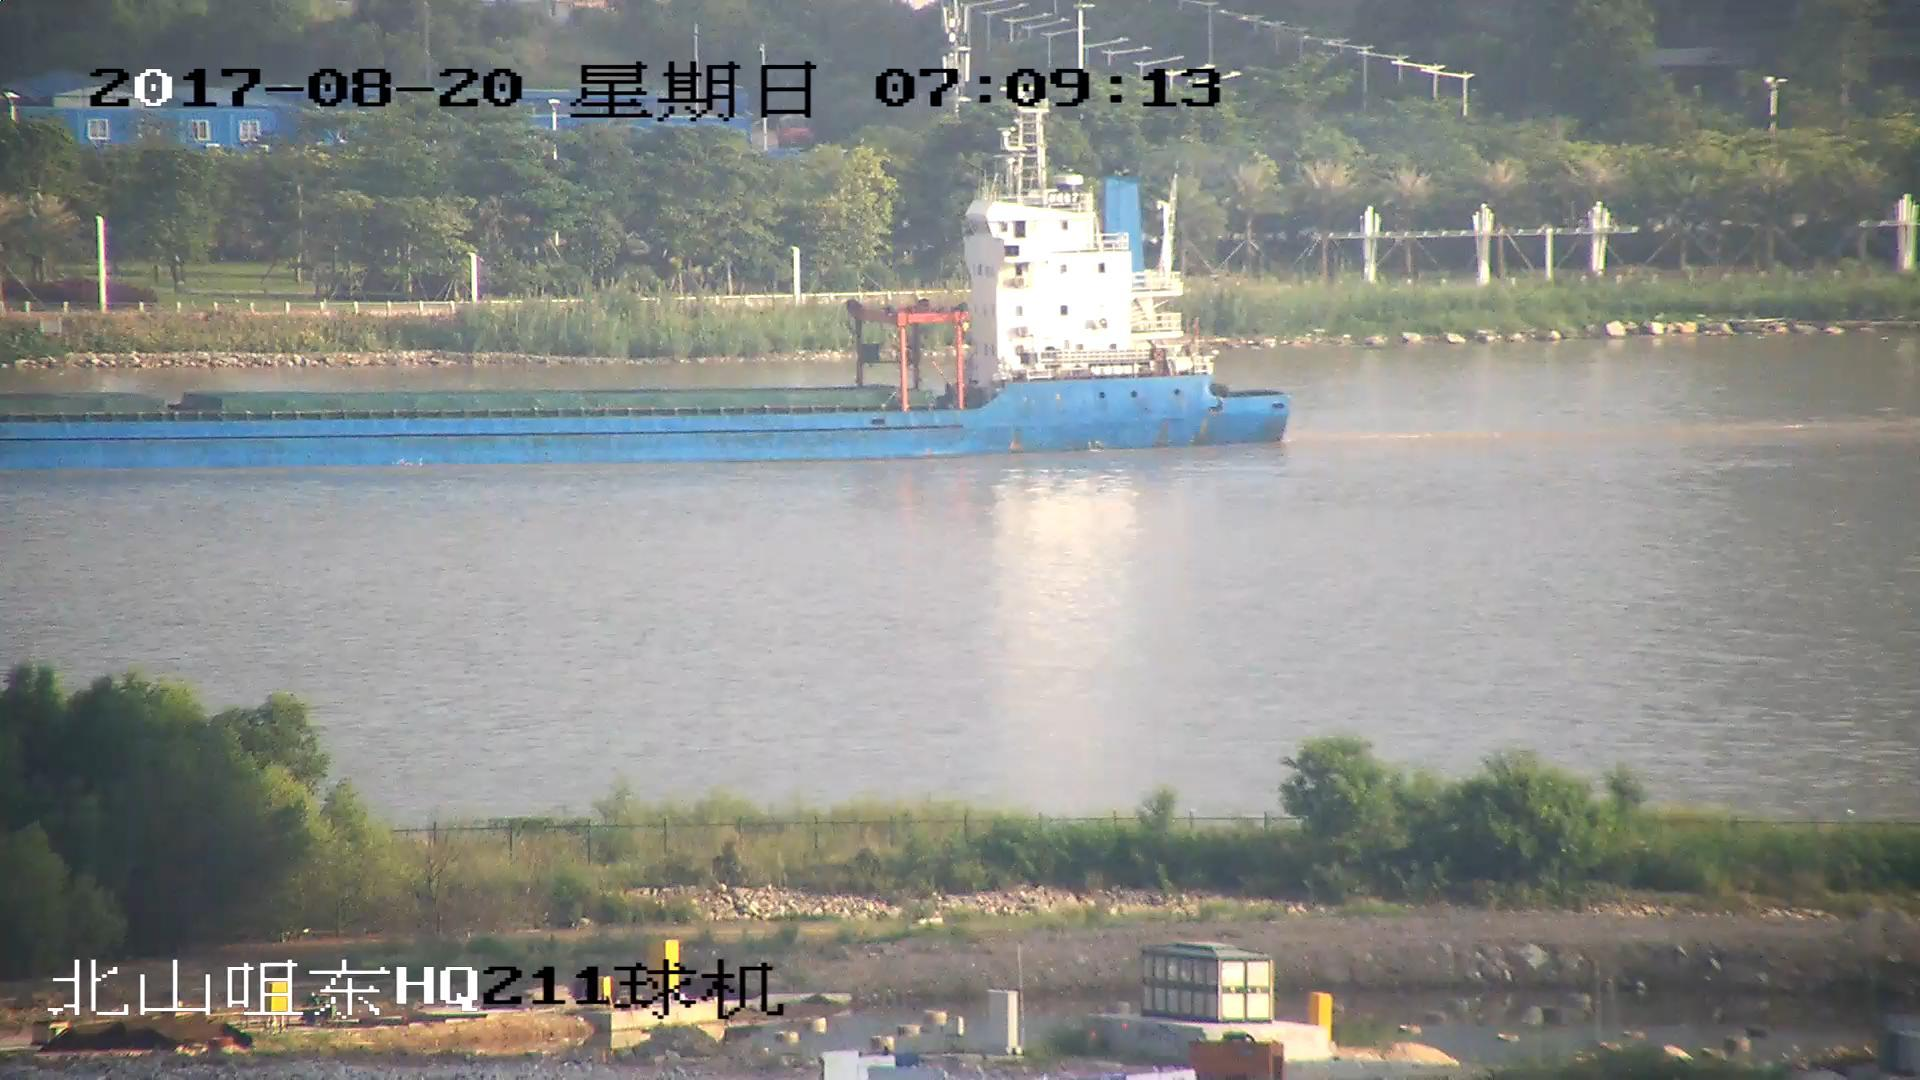Ship: (3, 142, 1298, 473)
